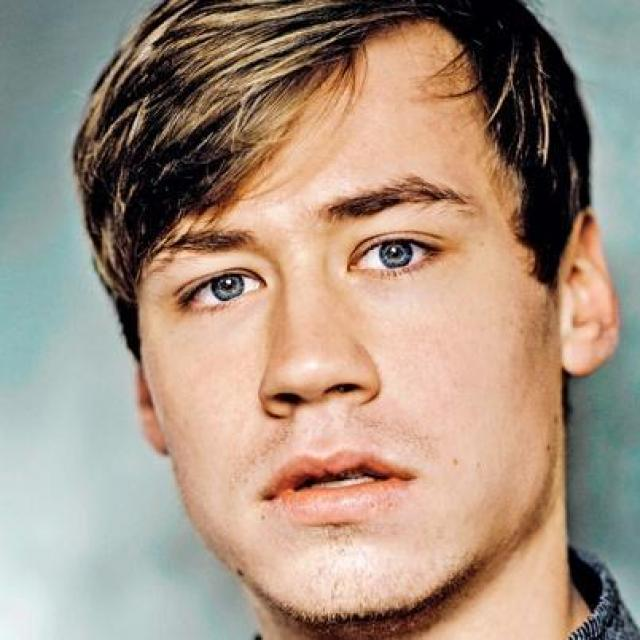surprised: (164, 56, 556, 589)
